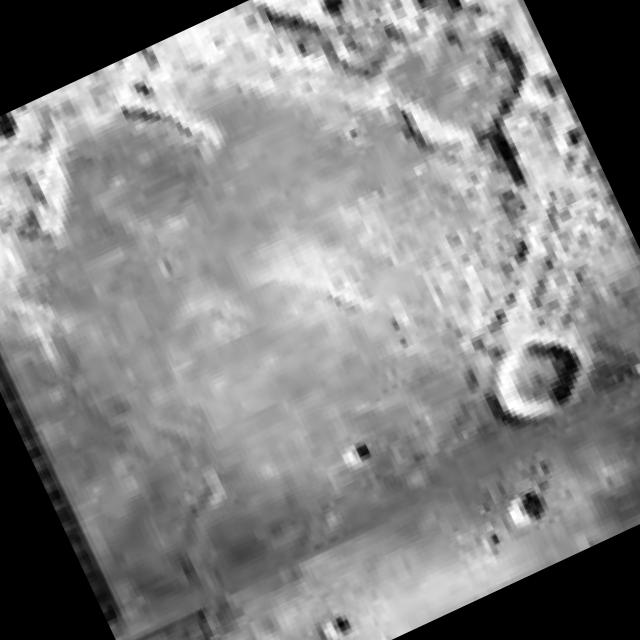crater: (474, 318, 600, 435), (500, 488, 548, 533)
